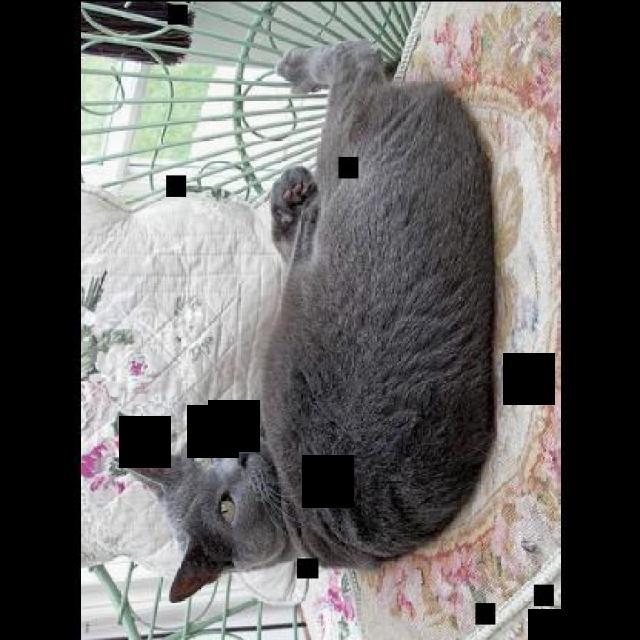unauthorized: (255, 36, 496, 566), (109, 419, 297, 603)
